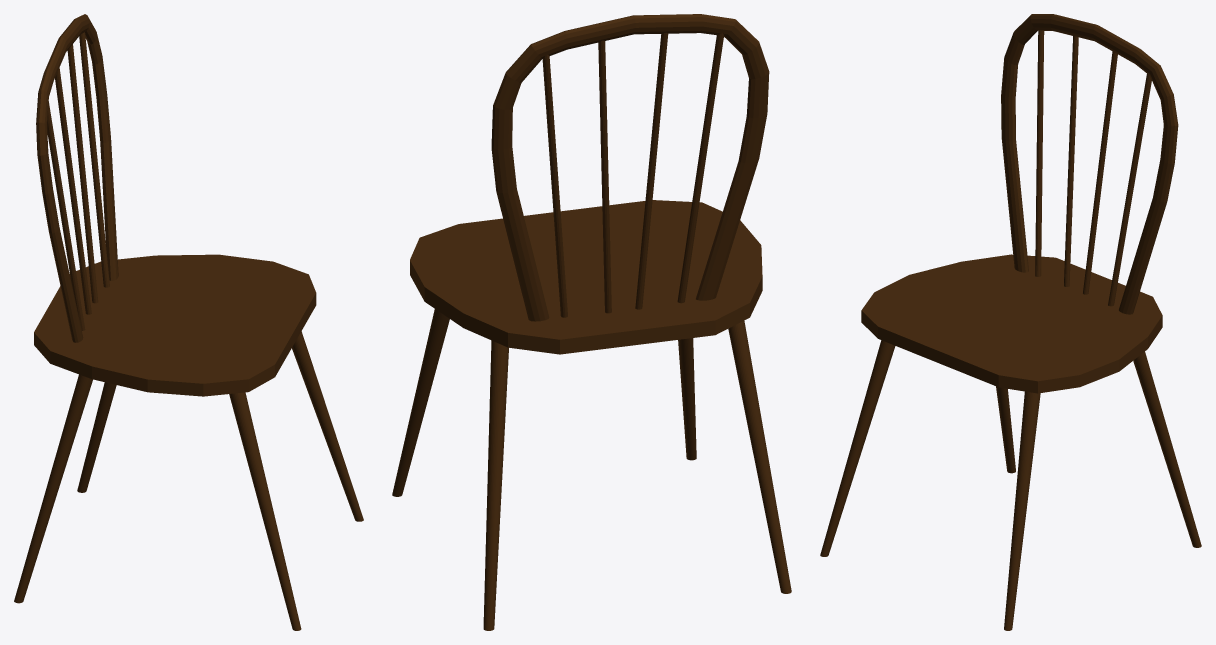
File: Chair.fbx
3 views of the same model, side by side, from view 1: azimuth 30°, elevation 25°; view 2: azimuth 150°, elevation 25°; view 3: azimuth 270°, elevation 25° (orthographic). The views are drawn at different scales.
Parts seen in each view (by area): view 1: Plane; view 2: Plane; view 3: Plane.
Part boxes in pixels (x1,y1,x2,y2): Plane: (14,14,363,630); Plane: (392,14,791,630); Plane: (820,14,1201,630).
Size of the model in its own units: 373 by 525 by 373.
